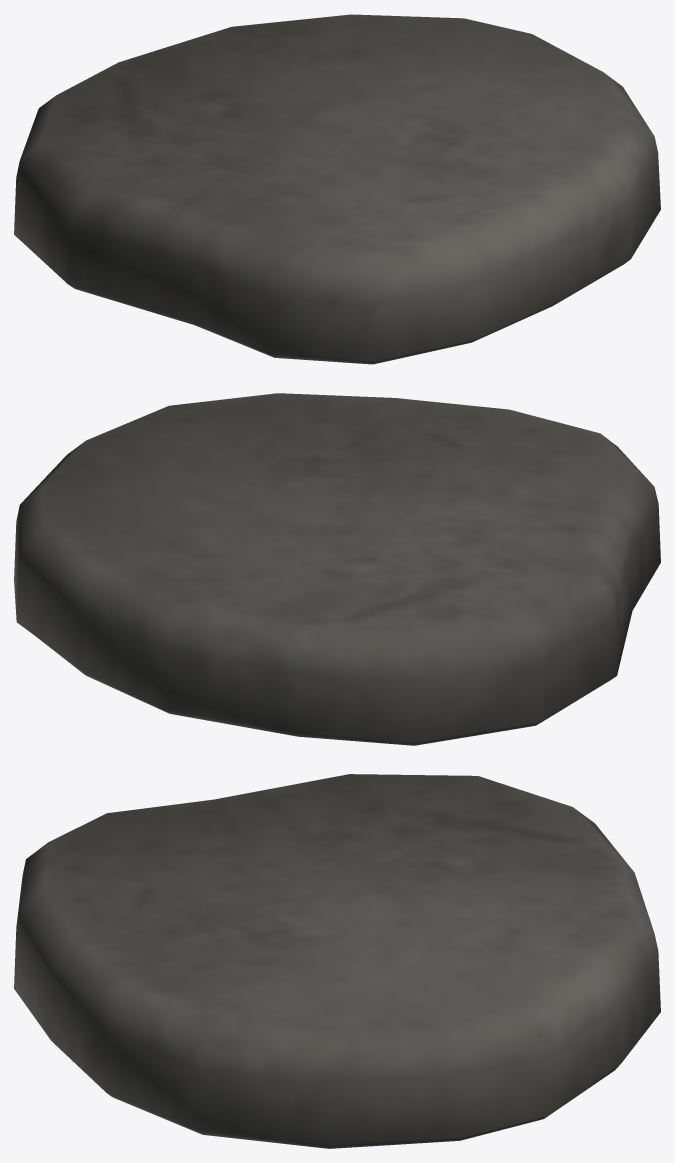
Rendered from rock_little.fbx.
3 renders of one model, top to bottom at view 1: azimuth 30°, elevation 25°; view 2: azimuth 150°, elevation 25°; view 3: azimuth 270°, elevation 25°, orthographic. The views are drawn at different scales.
Visible parts, largest first — view 1: rock_little; view 2: rock_little; view 3: rock_little.
Part boxes in pixels (x1=…): rock_little: x1=14, y1=14, x2=660, y2=364; rock_little: x1=14, y1=393, x2=660, y2=745; rock_little: x1=14, y1=774, x2=660, y2=1148.
Size of the model in its own units: 53.54 by 9.16 by 50.96.
